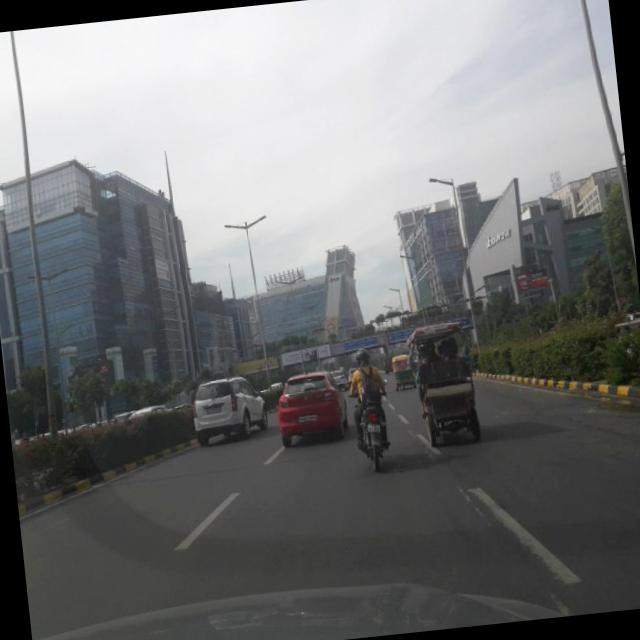pothole: (546, 584, 574, 616), (462, 492, 488, 524)
